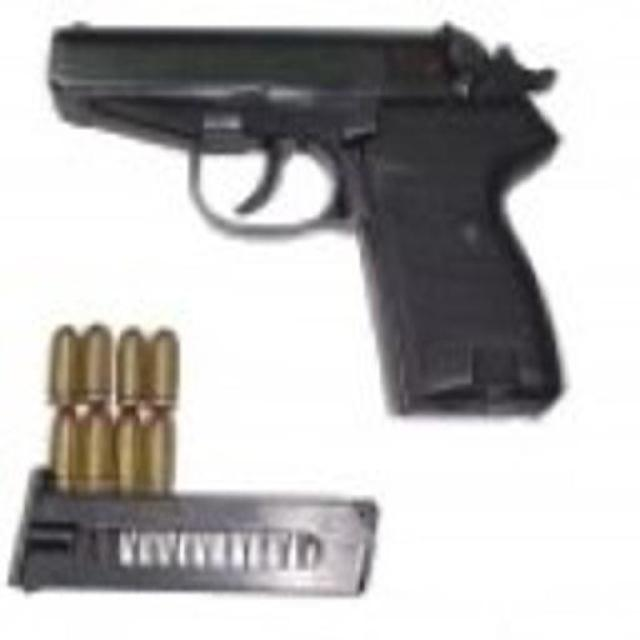pistol: (51, 21, 571, 421)
